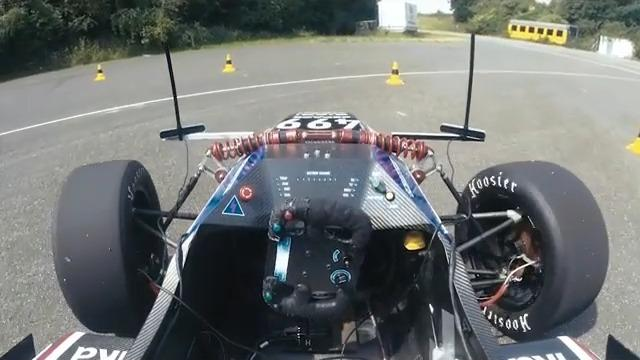yellow_cone: (624, 123, 640, 156), (385, 60, 405, 86), (221, 53, 236, 73), (93, 64, 107, 82)
